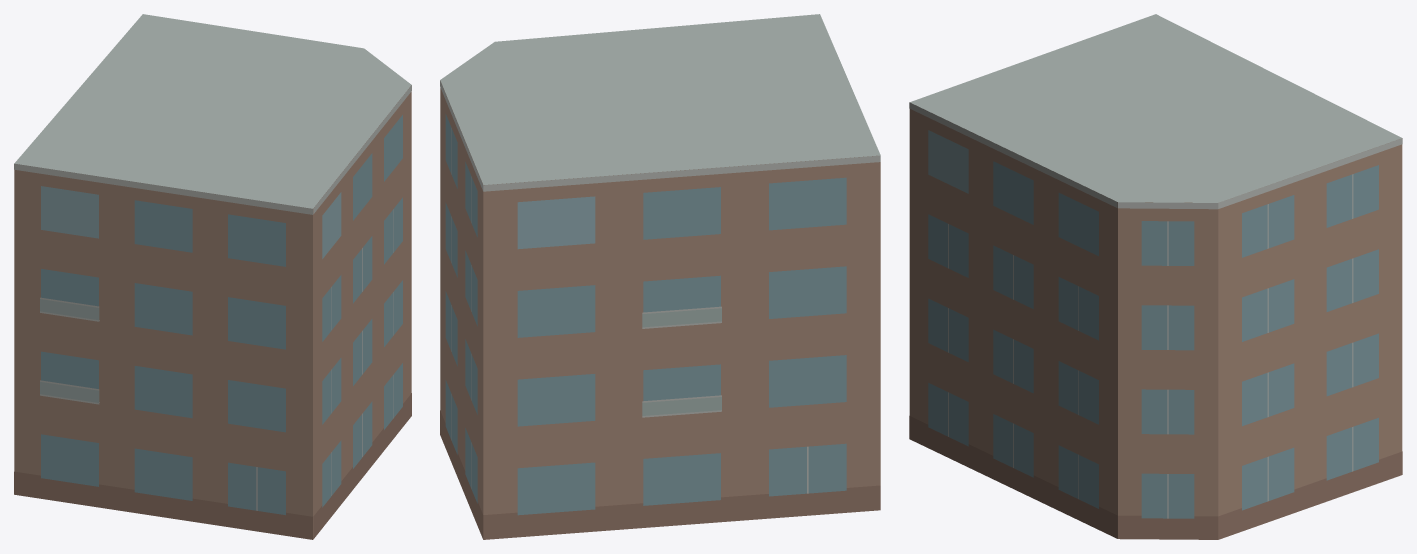
Rendered from survey-upis-32953451.glb.
The picture shows the model from 3 angles, left to right: view 1: azimuth 30°, elevation 25°; view 2: azimuth 150°, elevation 25°; view 3: azimuth 270°, elevation 25°; orthographic projection. The views are drawn at different scales.
Visible parts, largest first — view 1: survey-upis-32953451.tmp; view 2: survey-upis-32953451.tmp; view 3: survey-upis-32953451.tmp.
Part boxes in pixels (<box>): survey-upis-32953451.tmp: <box>14,14,411,539</box>; survey-upis-32953451.tmp: <box>440,14,880,539</box>; survey-upis-32953451.tmp: <box>909,14,1402,539</box>.
Bounding box in the file's own units: 15.89 × 13.2 × 17.51.
